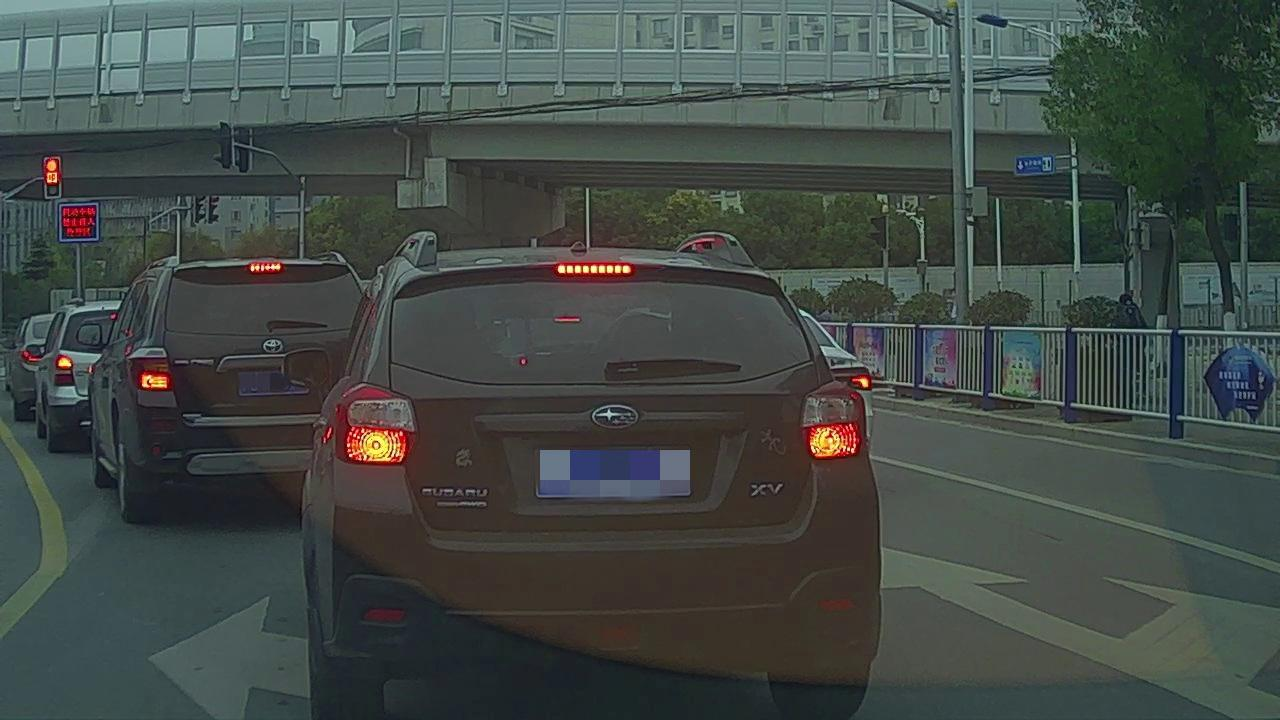traffic_light: (45, 158, 59, 197)
